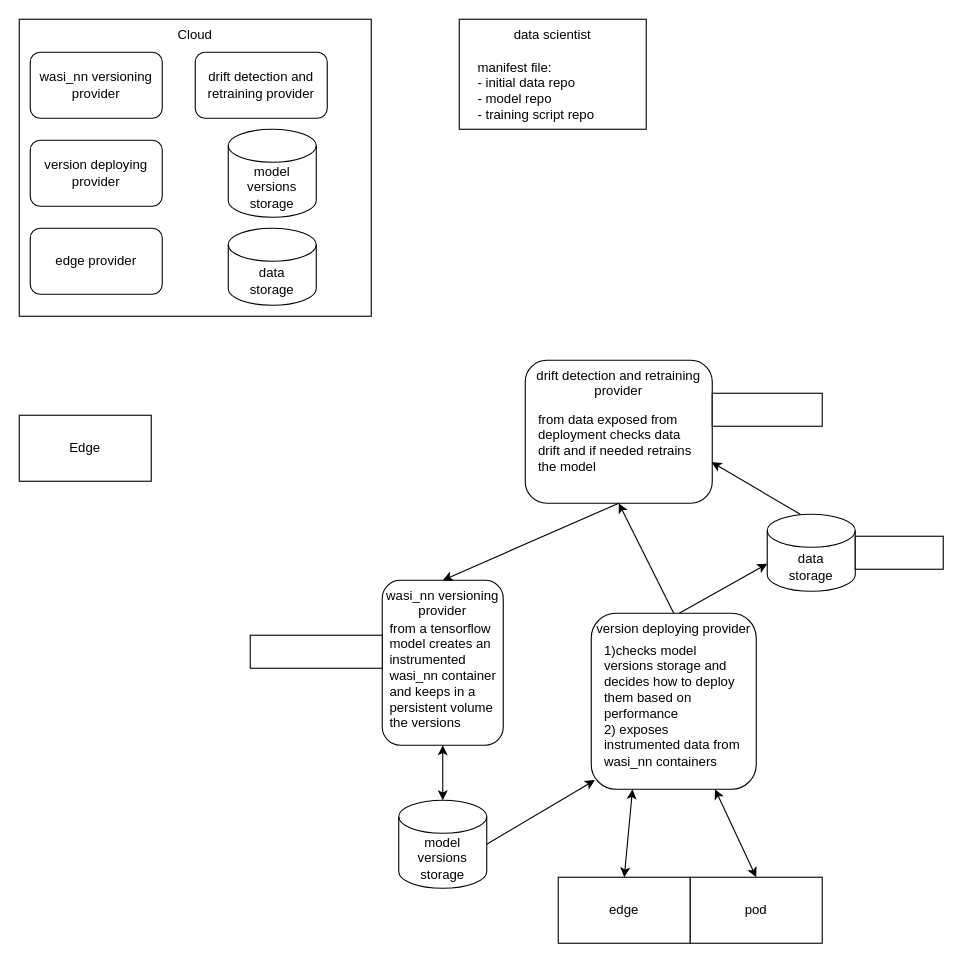
Image size: 963x963. Some labels were removed from this diagram. The shapes that lost their labels are listed below. From the top down, each one's centre as x and y in pixels, then its label:
At (x=766, y=409): "training script".
At (x=898, y=552): "initial data".
At (x=315, y=651): "initial model".
